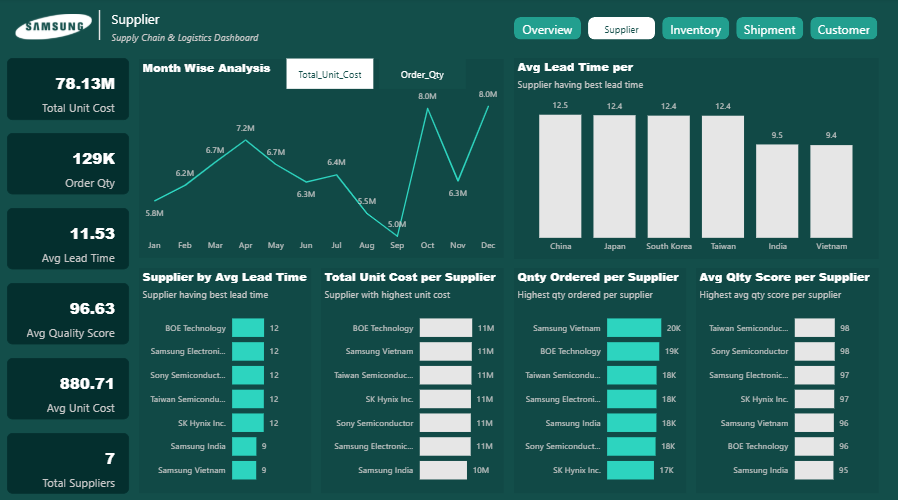

What the dashboard file says about the page in this screenshot:
{"tool":"powerbi","page":{"name":"Supplier","canvas":[1280,720],"ordinal":2},"visuals":[{"type":"textbox","title":"Supplier","box":[157.3,17,248,53.9],"z":0},{"type":"shape","box":[131.8,17,26.9,42.5],"z":1000},{"type":"cardVisual","fields":{"Data":["Measures Table.Order_Qty"]},"box":[14.2,191.9,172.8,87],"z":2000},{"type":"cardVisual","fields":{"Data":["Measures Table.Avg_Lead_Time"]},"box":[14.2,298,172.8,87],"z":3000},{"type":"cardVisual","fields":{"Data":["Measures Table.Avg_Quality_Score"]},"box":[14.2,404.1,172.8,87],"z":4000},{"type":"cardVisual","fields":{"Data":["Measures Table.Avg_Unit_Cost"]},"box":[14.2,510.2,172.8,87],"z":5000},{"type":"cardVisual","fields":{"Data":["CountNonNull(dim_supplier.supplier_id)"]},"box":[14.2,616.3,172.8,86.4],"z":6000},{"type":"cardVisual","fields":{"Data":["Measures Table.Total_Unit_Cost"]},"box":[14.2,85,172.8,87.8],"z":7000},{"type":"clusteredBarChart","title":"Total Unit Cost per Supplier","fields":{"Category":["dim_supplier.supplier_name"],"Y":["Measures Table.Total_Unit_Cost"]},"box":[459.2,382.3,259.4,318.9],"z":8000},{"type":"image","box":[21.3,5.7,117.6,70.9],"z":9000},{"type":"lineChart","title":"Month Wise Analysis","fields":{"Y":["Measures Table.Total_Unit_Cost"],"Category":["dim_date.Short_Month"]},"box":[201.3,87.2,517.3,281.9],"z":9500,"group":"g1"},{"type":"clusteredBarChart","title":"Qnty Ordered per Supplier","fields":{"Category":["dim_supplier.supplier_name"],"Y":["Measures Table.Order_Qty"]},"box":[732.8,382.3,243.8,318.9],"z":10000},{"type":"group","id":"g1","title":"Group 1","box":[201.3,81.4,517.3,287.7],"z":11000},{"type":"columnChart","title":"Avg Lead Time per ","fields":{"Category":["dim_supplier.country"],"Y":["Measures Table.Avg_Lead_Time"]},"box":[732.1,85.7,517.3,284.9],"z":12000},{"type":"advancedSlicerVisual","fields":{"Values":["Cost_Qty Supplier.Cost_Qty Supplier"]},"box":[405.4,81.4,265,53.8],"z":13000,"group":"g1"},{"type":"clusteredBarChart","title":"Avg Qlty Score per Supplier","fields":{"Category":["dim_supplier.supplier_name"],"Y":["Measures Table.Avg_Quality_Score"]},"box":[990.7,382.3,259.4,318.9],"z":13000},{"type":"clusteredBarChart","title":"Supplier by Avg Lead Time","fields":{"Category":["dim_supplier.supplier_name"],"Y":["Measures Table.Avg_Lead_Time"]},"box":[201.3,382.3,243.8,318.9],"z":14000},{"type":"pageNavigator","box":[732.9,27.1,517.1,32.9],"z":15000}]}

Visuals, with their boxes in screenshot pixels (x1, y1, x2, y2), scaled from the page's 1280x720 canvas onto the 898x500 screenshot:
"Supplier" textbox: pyautogui.locateOnScreen(110, 12, 284, 49)
shape: pyautogui.locateOnScreen(92, 12, 111, 41)
cardVisual - Measures Table.Order_Qty: pyautogui.locateOnScreen(10, 133, 131, 194)
cardVisual - Measures Table.Avg_Lead_Time: pyautogui.locateOnScreen(10, 207, 131, 267)
cardVisual - Measures Table.Avg_Quality_Score: pyautogui.locateOnScreen(10, 281, 131, 341)
cardVisual - Measures Table.Avg_Unit_Cost: pyautogui.locateOnScreen(10, 354, 131, 415)
cardVisual - CountNonNull(dim_supplier.supplier_id): pyautogui.locateOnScreen(10, 428, 131, 488)
cardVisual - Measures Table.Total_Unit_Cost: pyautogui.locateOnScreen(10, 59, 131, 120)
"Total Unit Cost per Supplier" clusteredBarChart: pyautogui.locateOnScreen(322, 265, 504, 487)
image: pyautogui.locateOnScreen(15, 4, 97, 53)
"Month Wise Analysis" lineChart: pyautogui.locateOnScreen(141, 61, 504, 256)
"Qnty Ordered per Supplier" clusteredBarChart: pyautogui.locateOnScreen(514, 265, 685, 487)
"Group 1" group: pyautogui.locateOnScreen(141, 57, 504, 256)
"Avg Lead Time per " columnChart: pyautogui.locateOnScreen(514, 60, 877, 257)
advancedSlicerVisual - Cost_Qty Supplier.Cost_Qty Supplier: pyautogui.locateOnScreen(284, 57, 470, 94)
"Avg Qlty Score per Supplier" clusteredBarChart: pyautogui.locateOnScreen(695, 265, 877, 487)
"Supplier by Avg Lead Time" clusteredBarChart: pyautogui.locateOnScreen(141, 265, 312, 487)
pageNavigator: pyautogui.locateOnScreen(514, 19, 877, 42)
